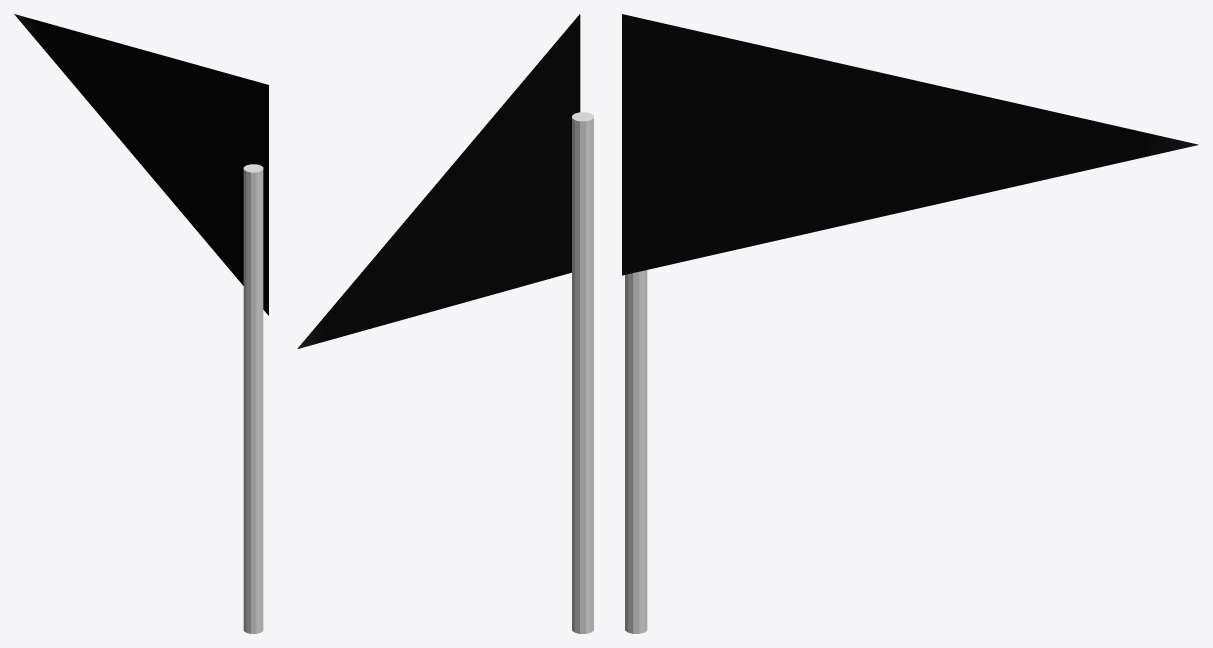
The model's file is flag_black.fbx.
3 renders of one model, left to right at view 1: azimuth 30°, elevation 25°; view 2: azimuth 150°, elevation 25°; view 3: azimuth 270°, elevation 25°, orthographic. The views are drawn at different scales.
Visible parts, largest first — view 1: Plane.007; view 2: Plane.007; view 3: Plane.007.
Part boxes in pixels (x1=…): Plane.007: x1=14, y1=14, x2=268, y2=633; Plane.007: x1=297, y1=14, x2=593, y2=633; Plane.007: x1=622, y1=14, x2=1198, y2=633.
Size of the model in its own units: 8 by 237 by 200.
